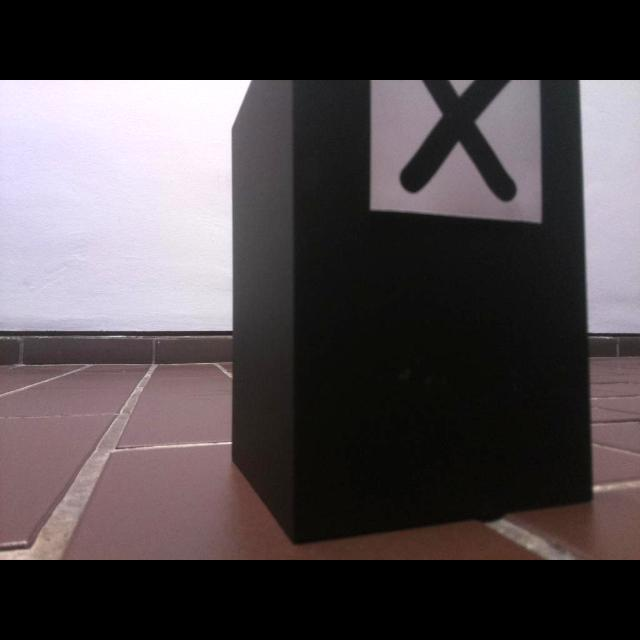X: (401, 80, 516, 200)
